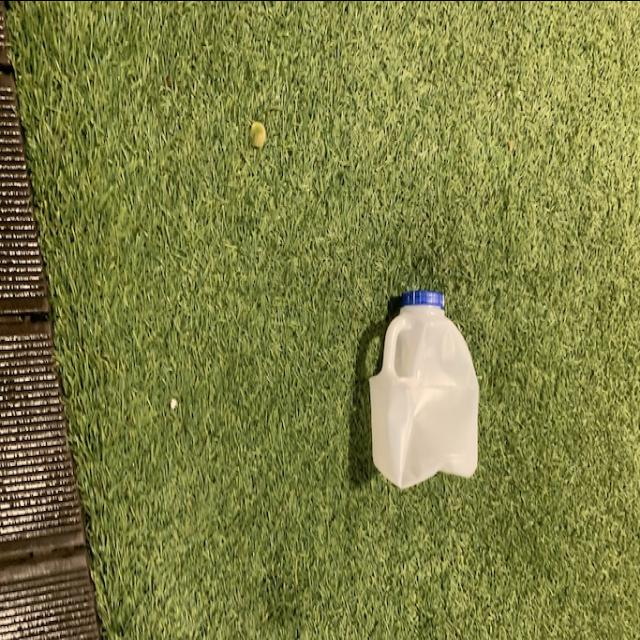litter: (368, 284, 482, 492)
